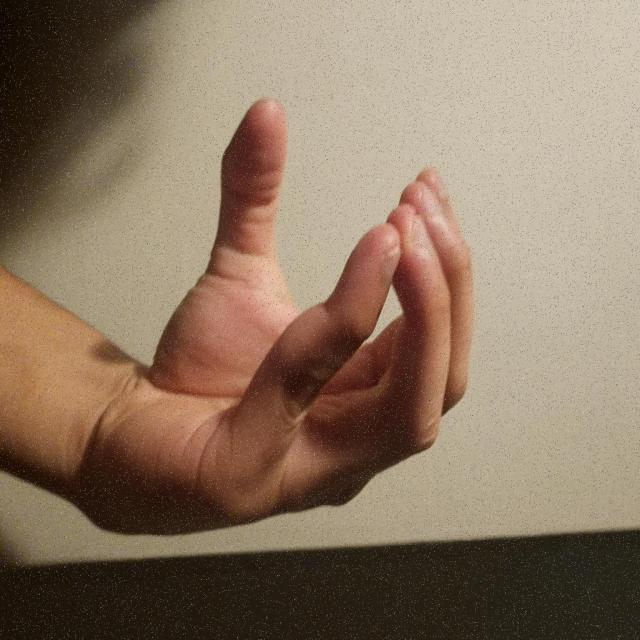C: (229, 215, 566, 640)
